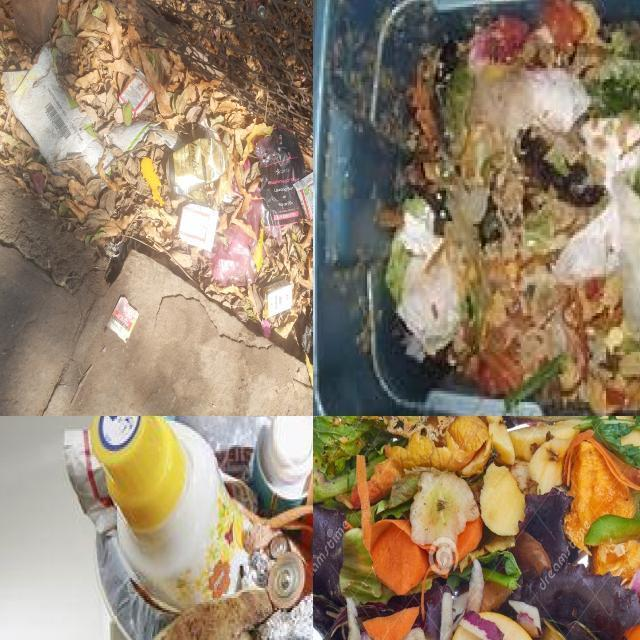Garbage: (382, 0, 640, 407), (313, 416, 640, 640), (64, 416, 313, 640)
Metal: (255, 593, 313, 640), (267, 553, 305, 610)
Plastic_Bag: (3, 47, 103, 173), (612, 177, 640, 336), (210, 223, 257, 287), (106, 121, 184, 153), (243, 186, 282, 245), (82, 139, 105, 174), (103, 151, 113, 169)
Plastic_Container: (91, 416, 247, 611), (252, 416, 313, 516)
Plastic_wraper: (107, 295, 139, 342)
Tetrapack: (178, 203, 219, 252), (118, 71, 155, 117), (260, 280, 293, 319), (293, 172, 313, 220)
can: (166, 138, 229, 196)
